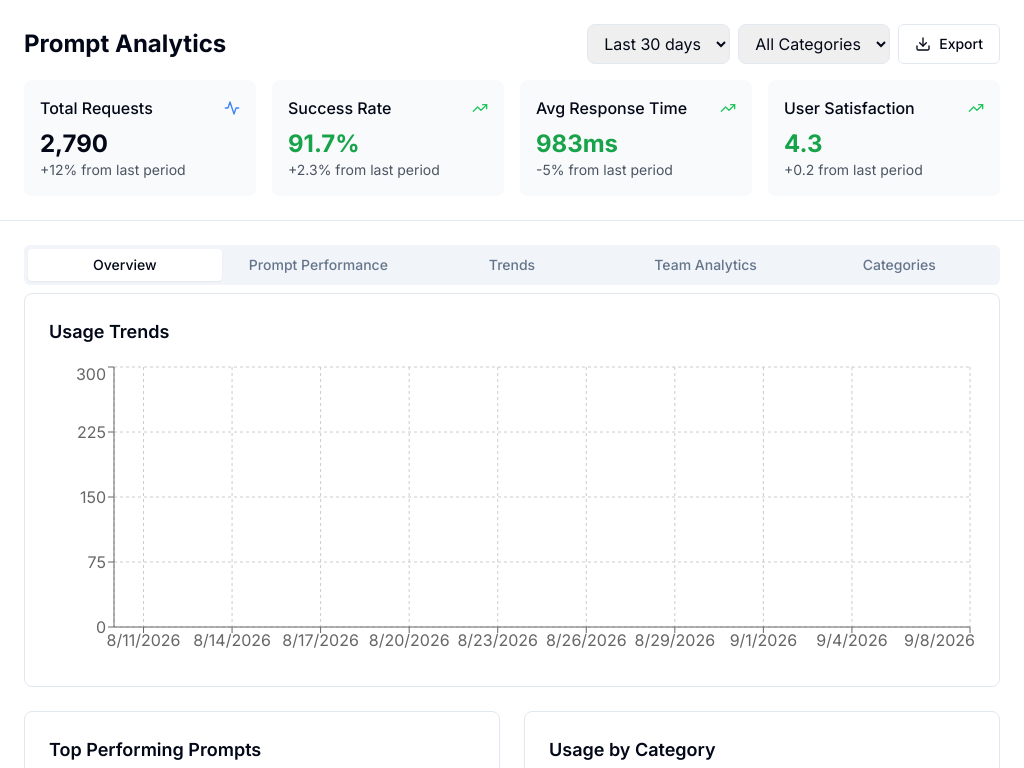
Scenario: AnalyticsDashboard › shows team analytics
Click the tab "Team Analytics" at (706, 265), box x1=609 y1=249 x2=802 y2=281
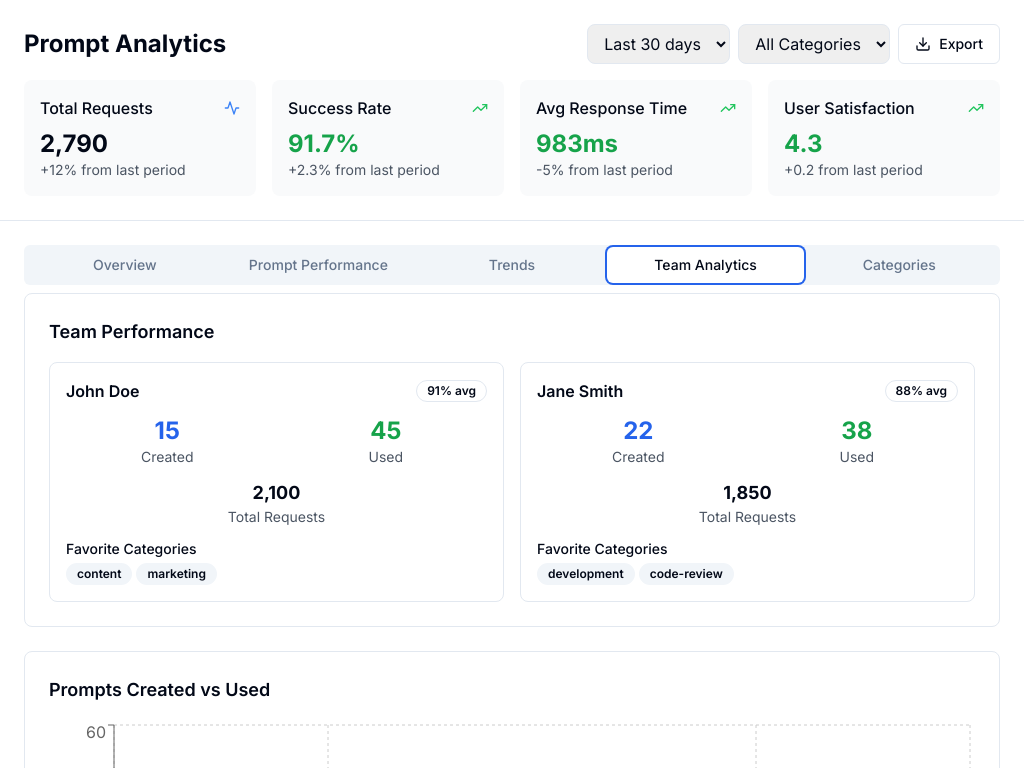
Now the heading "Team Performance" is shown, box x1=49 y1=321 x2=214 y2=342
Now the heading "John Doe" is shown, box x1=66 y1=379 x2=139 y2=403
Now the heading "Jane Smith" is shown, box x1=537 y1=379 x2=623 y2=403
